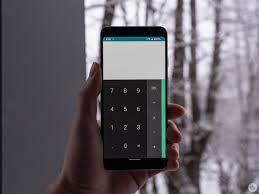Calculator: (101, 77, 167, 161)
